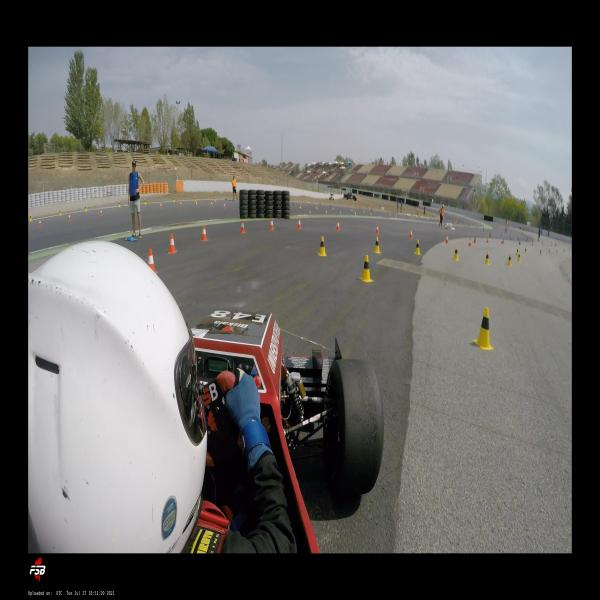orange_cone: (167, 234, 177, 255), (148, 248, 156, 272), (201, 225, 208, 241), (239, 220, 246, 234), (269, 218, 275, 231), (297, 218, 302, 230), (374, 224, 379, 235), (444, 234, 449, 244), (408, 229, 413, 239), (336, 220, 340, 231), (468, 237, 471, 247), (68, 214, 72, 221), (39, 219, 42, 228), (210, 201, 214, 207), (223, 202, 226, 210), (195, 200, 198, 207), (100, 209, 103, 216), (473, 236, 476, 243), (339, 210, 342, 216), (179, 201, 182, 207), (369, 212, 372, 217), (309, 209, 311, 216), (325, 209, 327, 216), (160, 202, 162, 209), (486, 237, 488, 244), (501, 238, 503, 244), (532, 241, 534, 246), (354, 211, 356, 216)
yellow_cone: (472, 306, 494, 351), (358, 254, 373, 283), (317, 235, 327, 256), (372, 236, 381, 254), (413, 239, 421, 255), (452, 246, 459, 260), (483, 251, 490, 265), (506, 254, 512, 266), (516, 252, 521, 263), (515, 248, 519, 256), (29, 214, 33, 222), (84, 205, 88, 212), (194, 197, 198, 203), (172, 196, 176, 202), (539, 248, 542, 255), (524, 247, 527, 254), (118, 201, 121, 207), (59, 210, 62, 216), (315, 204, 318, 209), (556, 248, 558, 254), (548, 248, 550, 254), (299, 204, 301, 210), (214, 196, 216, 202), (144, 199, 146, 205), (350, 207, 352, 212), (363, 209, 365, 214), (332, 206, 334, 210)
